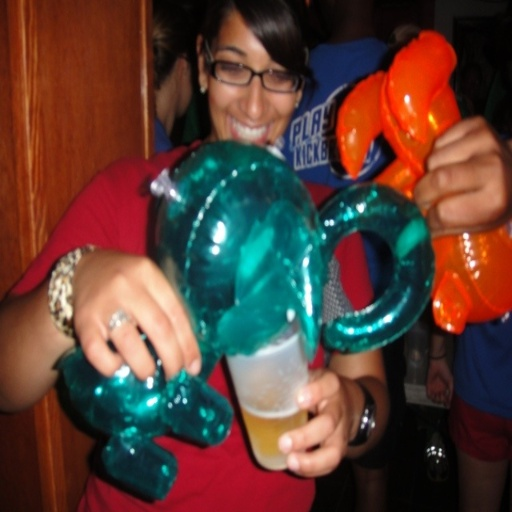hand: (68, 245, 204, 387), (420, 99, 512, 235), (273, 366, 355, 480), (425, 357, 456, 406)
